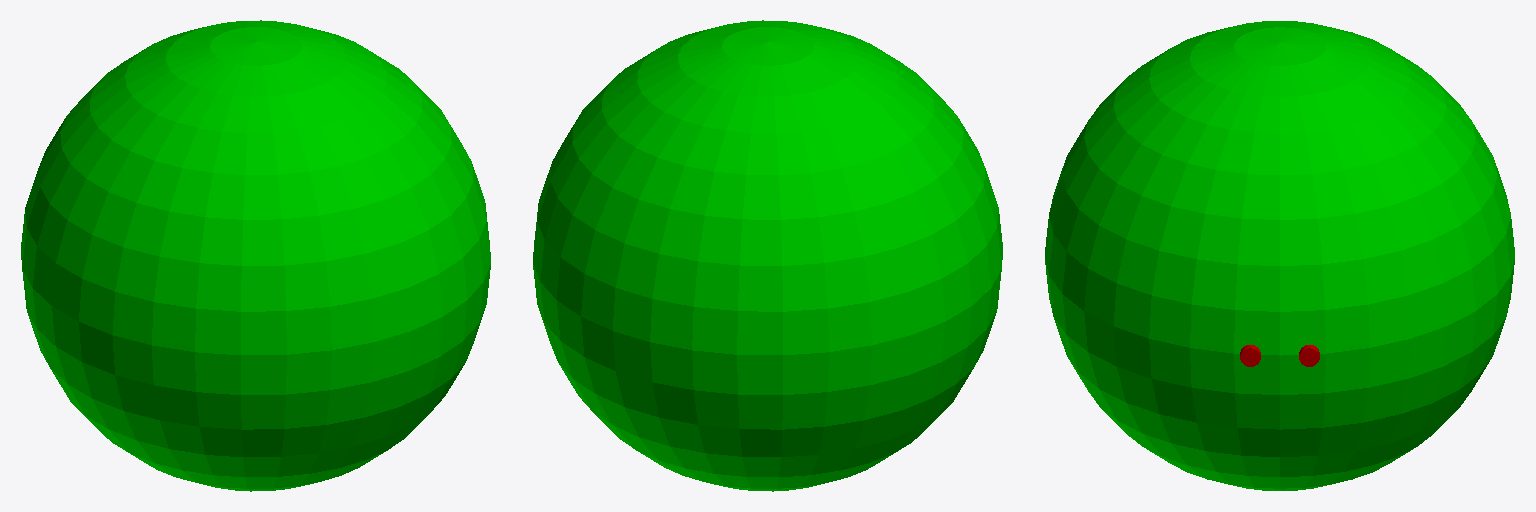
URDF robot description (haro):
<robot name="haro">

    <!-- Colours for RVIZ for geometric elements -->
    <material name="blue">
        <color rgba="0 0 0.8 1"/>
    </material>
    <material name="red">
        <color rgba="0.8 0 0 1"/>
    </material>
    <material name="green">
        <color rgba="0 0.8 0 1"/>
    </material>
    <material name="grey">
        <color rgba="0.75 0.75 0.75 1"/>
    </material>
    <material name="white">
        <color rgba="1.0 1.0 1.0 1"/>
    </material>
    <material name="black">
        <color rgba="0 0 0 1"/>
    </material>


	<!-- * * * Link Definitions * * * -->


    <link name="body_link">
 	    <inertial>
            <origin xyz="0 0 0" rpy="0 0 0"/>
            <mass value="1.0" />
            <inertia ixx="0.00576" ixy="0.0" ixz="0.0" iyy="0.00576" iyz="0.0" izz="0.00576"/>
        </inertial>
        <collision>
            <origin xyz="0 0 0" rpy="0 0 0"/>
            <geometry>
                <sphere radius="0.12"/>
            </geometry>
        </collision>
        <visual>
            <origin rpy="0.0 0 0" xyz="0 0 0"/>
            <geometry>
                <sphere radius="0.12"/>
            </geometry>
            <material name="green"/>
        </visual>
    </link>
    
    <gazebo reference="body_link">
        <kp>100000.0</kp>
        <kd>100000.0</kd>
        <mu1>10.0</mu1>
        <mu2>10.0</mu2>
        <material>Gazebo/Green</material>
        <gravity>0</gravity>
    </gazebo>


    <link name="left_eye_link">
        <!-- Inertial for gazebo to take it into account, Put 1gr weight -->
        <inertial>
            <origin xyz="0 0 0" rpy="0 0 0"/>
            <mass value="0.001" />
            <inertia ixx="9.1875e-09" ixy="0.0" ixz="0.0" iyy="9.1875e-09" iyz="0.0" izz="1.378125e-08"/>
        </inertial>
		<visual>
            <origin rpy="0.0 0 0" xyz="0 0 0"/>
            <geometry>
                <cylinder radius="0.00525" length="0.00525"/>
            </geometry>
            <material name="red"/>
        </visual>
	</link>


    <link name="right_eye_link">
        <!-- Inertial for gazebo to take it into account, Put 1gr weight -->
        <inertial>
            <origin xyz="0 0 0" rpy="0 0 0"/>
            <mass value="0.001" />
            <inertia ixx="9.1875e-09" ixy="0.0" ixz="0.0" iyy="9.1875e-09" iyz="0.0" izz="1.378125e-08"/>
        </inertial>
		<visual>
            <origin rpy="0.0 0 0" xyz="0 0 0"/>
            <geometry>
                <cylinder radius="0.00525" length="0.00525"/>
            </geometry>
            <material name="red"/>
        </visual>
	</link>

    <gazebo reference="right_eye_link">
        <material>Gazebo/Red</material>
        <gravity>0</gravity>
    </gazebo>
    
    <gazebo reference="left_eye_link">
        <material>Gazebo/Red</material>
        <gravity>0</gravity>
    </gazebo>

    <joint name="head_lefteye_joint" type="fixed">
        <parent link="body_link"/>
        <child link="left_eye_link"/>
        <origin xyz="0.12 -0.015 0" rpy="0 1.57 0"/>
    </joint>

    <joint name="head_righteye_joint" type="fixed">
        <parent link="body_link"/>
        <child link="right_eye_link"/>
        <origin xyz="0.12 0.015 0" rpy="0 1.57 0"/>
    </joint>
    
    
    <link name="camera_frame" />
    
    <gazebo reference="camera_frame">
        <material>Gazebo/Black</material>
        <gravity>0</gravity>
    </gazebo>
    
    <joint name="camera_frame_joint" type="fixed">
        <origin rpy="0 0 0" xyz="0.12 0  0.015" />
        <parent link="body_link" />
        <child link="camera_frame" />
    </joint>

    <link name="optical_frame" />
    
     <gazebo reference="optical_frame">
        <material>Gazebo/Black</material>
        <gravity>0</gravity>
    </gazebo>
    
    <joint name="optical_frame_joint" type="fixed">
    <origin rpy="-1.57079632679 0 0" xyz="0 0 0" />
    <parent link="camera_frame" />
    <child link="optical_frame" />
    </joint>
    
    
    <gazebo reference="camera_frame">
    <sensor type="depth" name="camera">
      <always_on>true</always_on>
      <update_rate>10.0</update_rate>
      <camera>
        <horizontal_fov>1.047197</horizontal_fov>
        <image>
          <!-- openni_kinect plugin works only with BGR8 -->
          <format>B8G8R8</format>
          <width>400</width>
          <height>400</height>
        </image>
        <clip>
          <near>0.05</near>
          <far>50</far>
        </clip>
      </camera>
      <plugin name="head_camera_controller" filename="libgazebo_ros_openni_kinect.so">
        <baseline>0.1</baseline>
        <alwaysOn>true</alwaysOn>
        <updateRate>10.0</updateRate>
        <cameraName>head_camera</cameraName>
        <imageTopicName>/head_camera/rgb/image_raw</imageTopicName>
        <cameraInfoTopicName>/head_camera/rgb/camera_info</cameraInfoTopicName>
        <depthImageTopicName>/head_camera/depth_registered/image_raw</depthImageTopicName>
        <depthImageCameraInfoTopicName>/head_camera/depth_registered/camera_info</depthImageCameraInfoTopicName>
        <pointCloudTopicName>/head_camera/depth_registered/points</pointCloudTopicName>
        <frameName>optical_frame</frameName>
        <pointCloudCutoff>0.35</pointCloudCutoff>
        <pointCloudCutoffMax>4.5</pointCloudCutoffMax>
        <CxPrime>0</CxPrime>
        <Cx>0</Cx>
        <Cy>0</Cy>
        <focalLength>0</focalLength>
        <hackBaseline>0</hackBaseline>
      </plugin>
    </sensor>
    </gazebo>


</robot>

--- Facts derived from the render (not from the file) ---
Views: 3 orthographic renders of the robot side by side, from view 1: azimuth 30°, elevation 25°; view 2: azimuth 150°, elevation 25°; view 3: azimuth 270°, elevation 25°.
Robot: haro — 5 links, 4 joints (4 fixed); root link body_link; default pose: all joints at 0.
Visible links, largest first — view 1: body_link; view 2: body_link; view 3: body_link.
Boxes of the visible links, <box> form: body_link: <box>21,20,490,491</box>; body_link: <box>533,20,1002,491</box>; body_link: <box>1045,21,1514,490</box>.
Bounding box of the posed robot: 0.2426 × 0.24 × 0.24 m (x, y, z).
Geometry: primitives only (box / cylinder / sphere), no mesh files.
